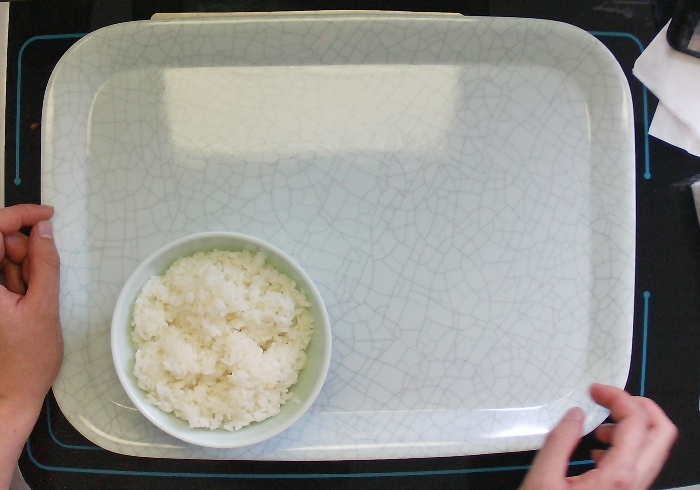JYsf-Fan_Wan: (108, 230, 334, 450)
